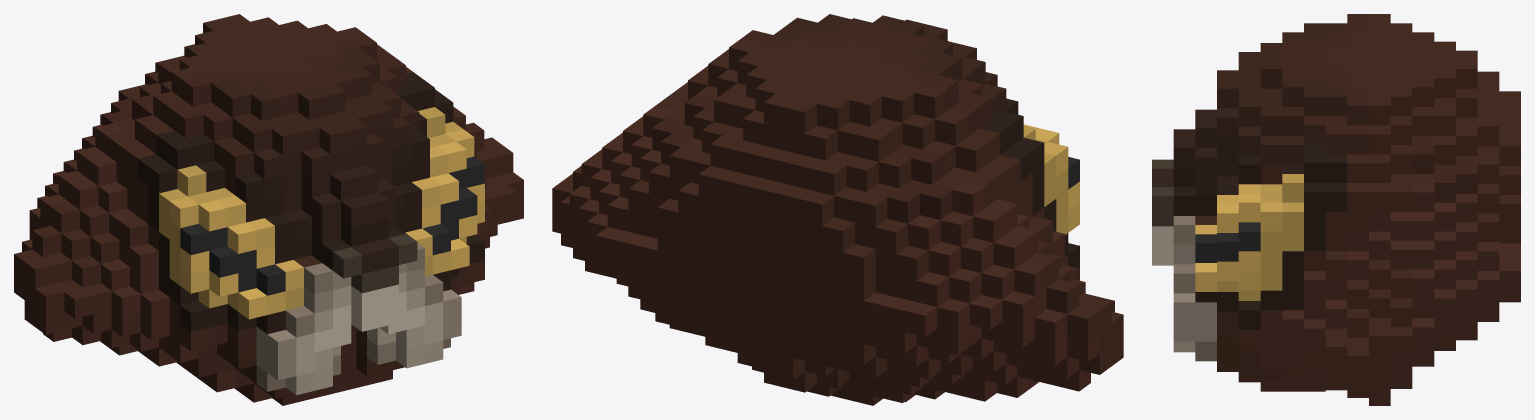
The model's file is kotUnityVersion-5.obj.
3 renders of one model, left to right at view 1: azimuth 30°, elevation 25°; view 2: azimuth 150°, elevation 25°; view 3: azimuth 270°, elevation 25°, orthographic. The views are drawn at different scales.
Size of the model in its own units: 2.6 by 1.5 by 1.7.
Materials: 1 (1 with a texture image).
